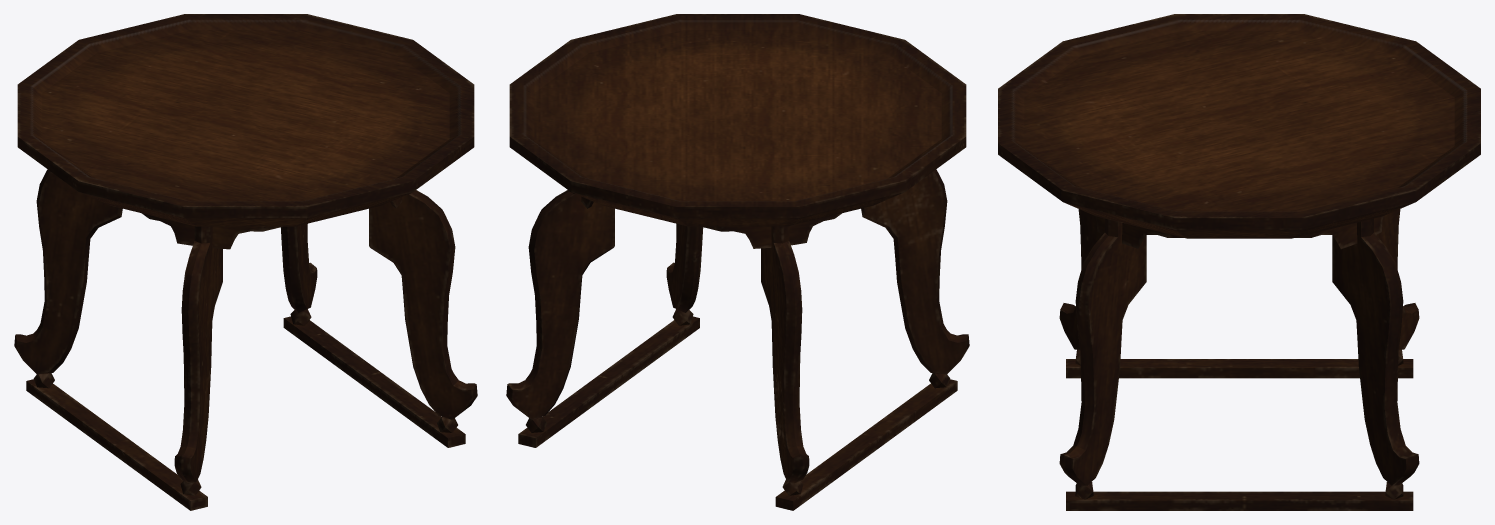
File: table.glb
3 renders of one model, left to right at view 1: azimuth 30°, elevation 25°; view 2: azimuth 150°, elevation 25°; view 3: azimuth 270°, elevation 25°, orthographic. The views are drawn at different scales.
Parts seen in each view (by area): view 1: SM_Small_Dining_Table; view 2: SM_Small_Dining_Table; view 3: SM_Small_Dining_Table.
Boxes of the visible parts, x1,y1,x2,y2 form: SM_Small_Dining_Table: (14, 14, 477, 510); SM_Small_Dining_Table: (506, 14, 969, 510); SM_Small_Dining_Table: (998, 14, 1480, 510).
Bounding box in the file's own units: 0.369 × 0.2733 × 0.369.
Materials: 1 (1 with a texture image).
